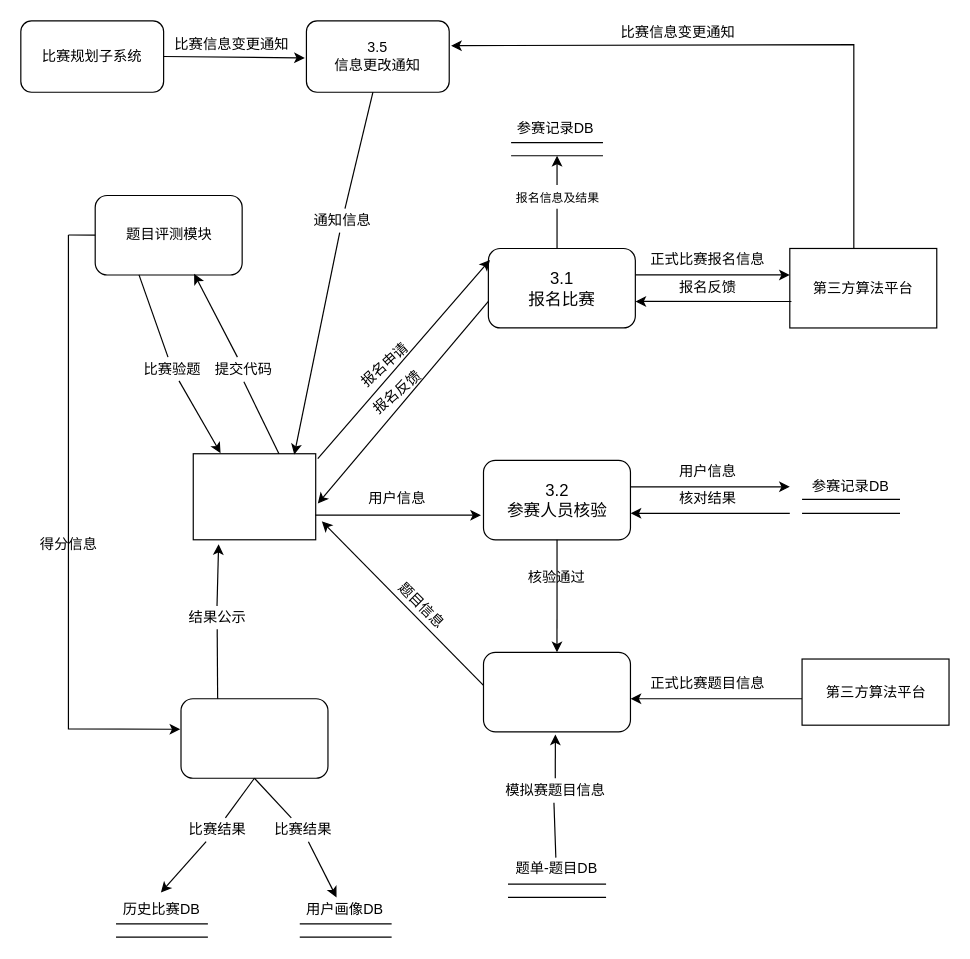
Image size: 970x959. Some labels were removed from this diagram. The centre of each missing label's shape, as x and y in pixels:
3.3 比赛: the point at 556,691
3.4 计算得分及排名: the point at 254,738
用户: the point at 254,496
